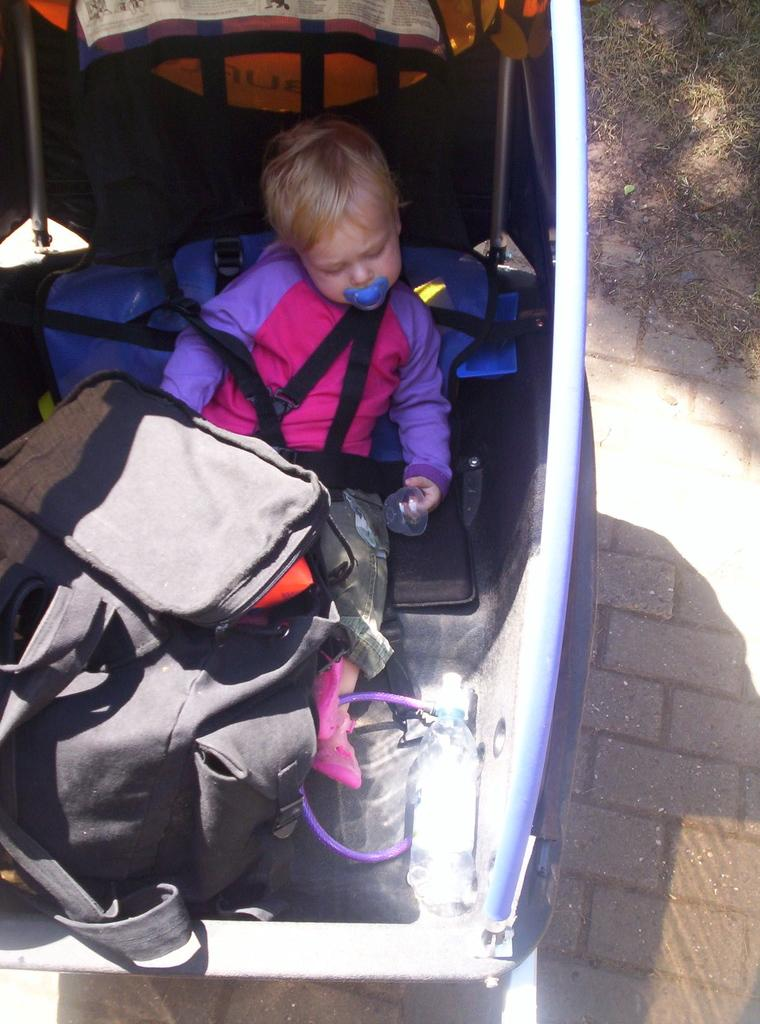Luggage-and-bags: (4, 587, 332, 961), (0, 356, 369, 641), (19, 223, 530, 405)
